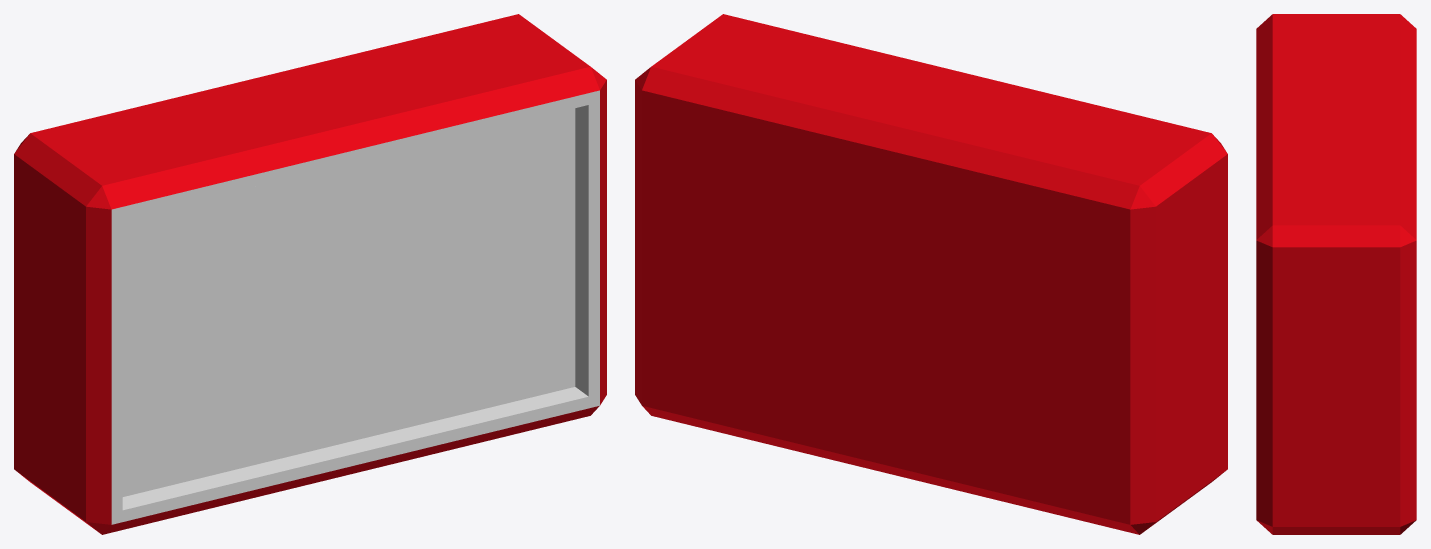
The model's file is Response_Cube_alt.fbx.
The picture shows the model from 3 angles, left to right: view 1: azimuth 30°, elevation 25°; view 2: azimuth 150°, elevation 25°; view 3: azimuth 270°, elevation 25°; orthographic projection. The views are drawn at different scales.
Visible parts, largest first — view 1: Box_alt; view 2: Box_alt; view 3: Box_alt.
Boxes of the visible parts, box(x1,y1,x2,y2) form: Box_alt: box(14, 14, 606, 534); Box_alt: box(635, 14, 1227, 534); Box_alt: box(1256, 14, 1416, 534).
Size of the model in its own units: 2 by 1.28 by 0.6025.
